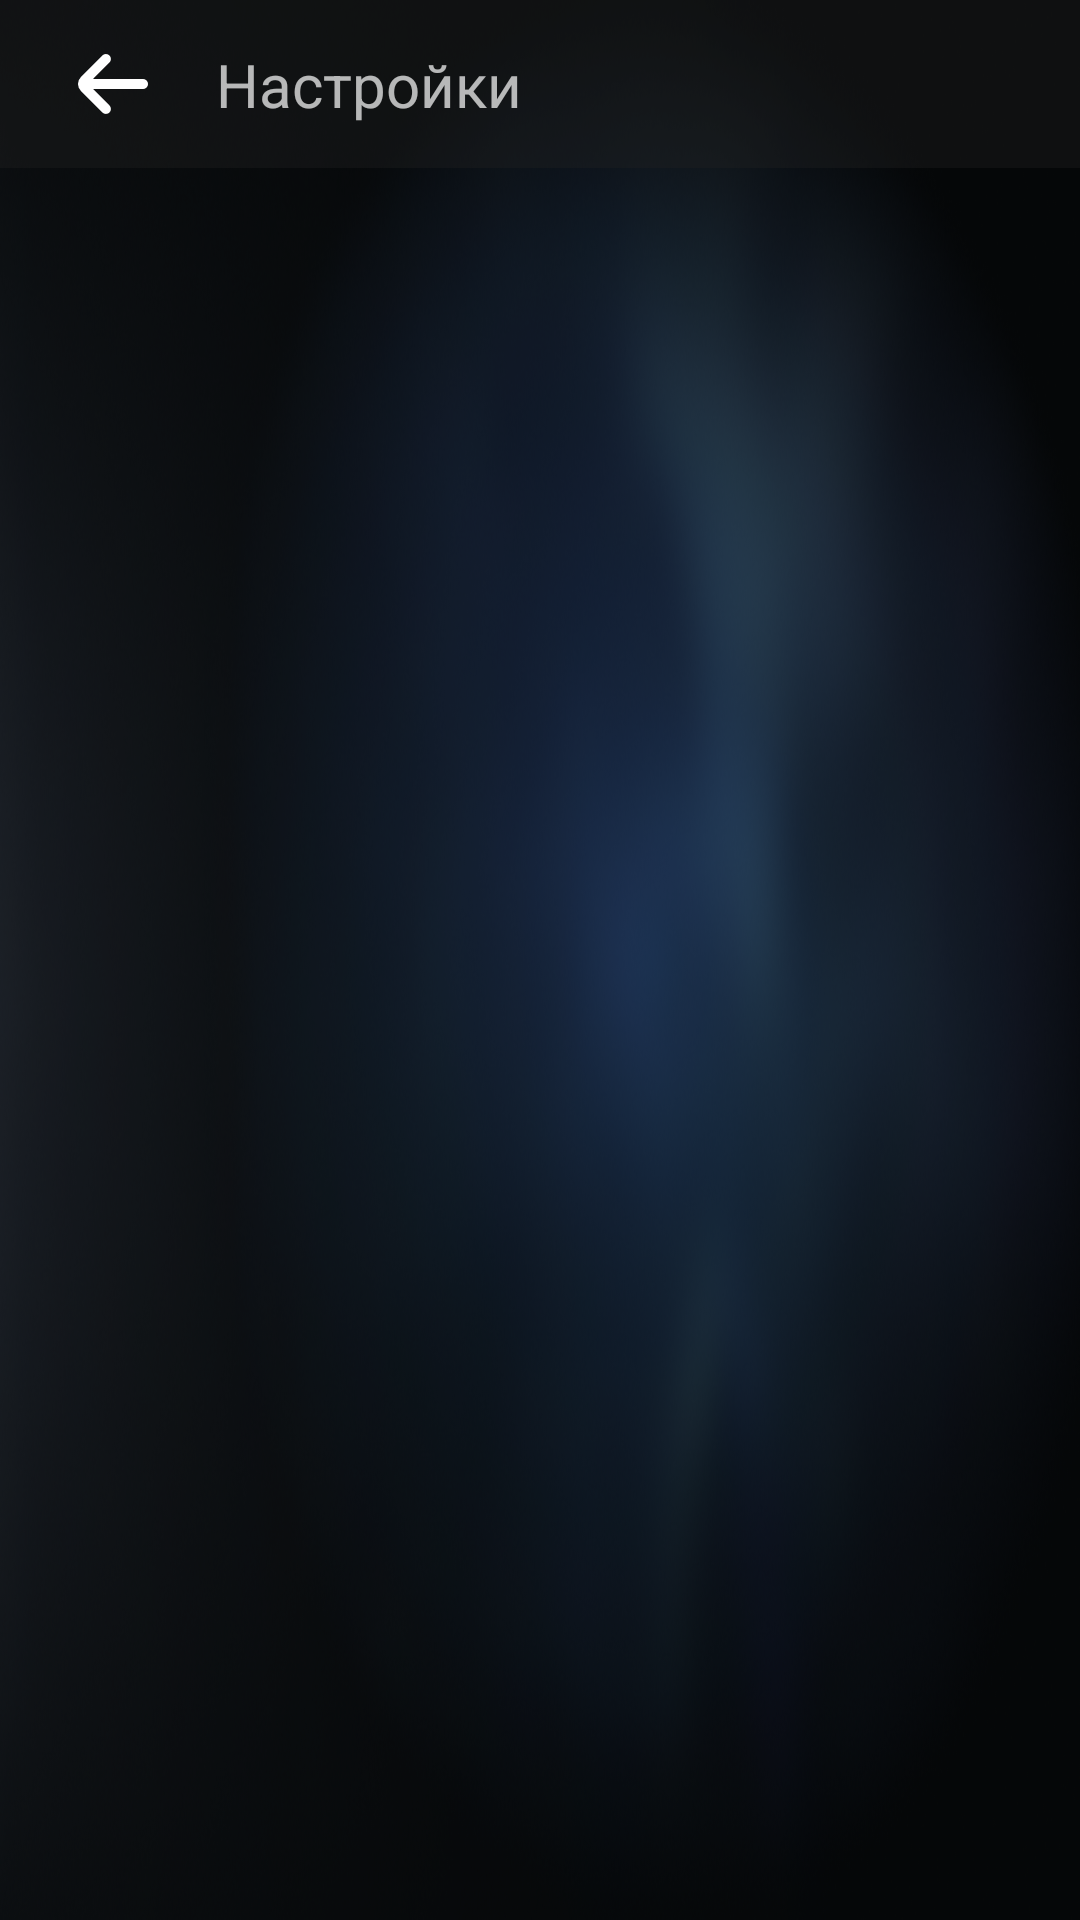

Named icons in this screenshot (1080*1920) and their bounding boxes, bbox(x1, y1, x2, y2):
left: bbox(78, 54, 148, 114)
